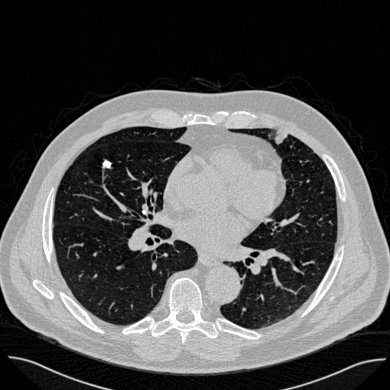nodule: (103, 160, 111, 168)
